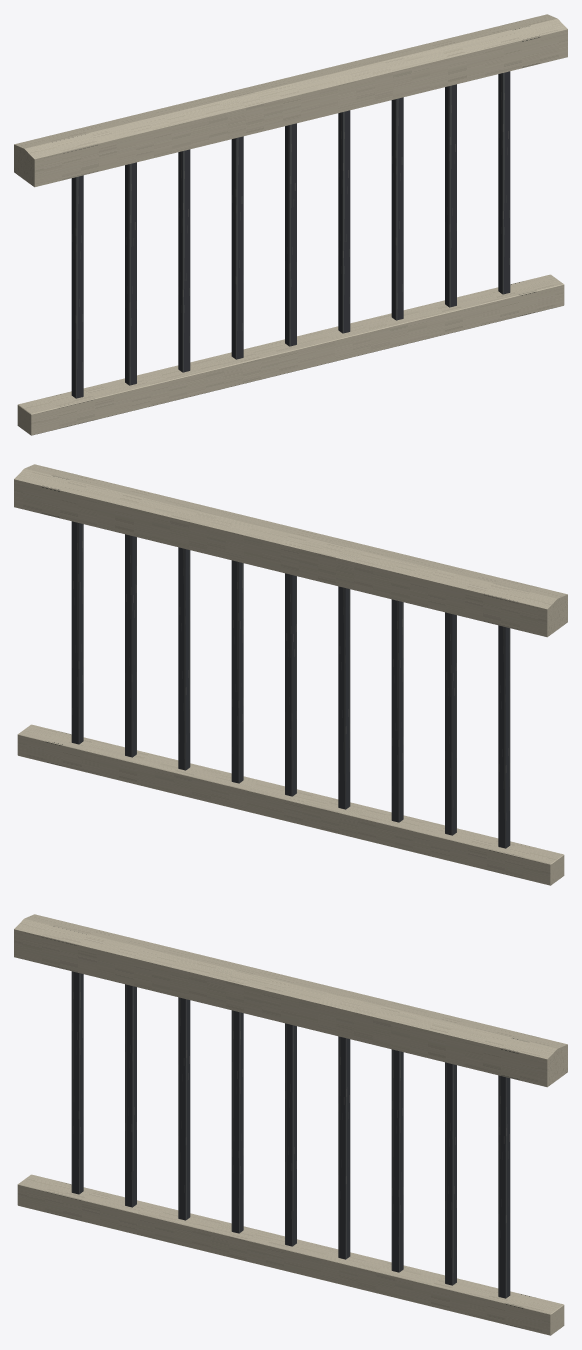
Rendered from porch_railing_straight.glb.
The picture shows the model from 3 angles, top to bottom: view 1: azimuth 30°, elevation 25°; view 2: azimuth 150°, elevation 25°; view 3: azimuth 330°, elevation 25°; orthographic projection.
Visible parts, largest first — view 1: porch_railing_straight; view 2: porch_railing_straight; view 3: porch_railing_straight.
Boxes of the visible parts, box(x1,y1,x2,y2) form: porch_railing_straight: box(14, 14, 567, 435); porch_railing_straight: box(14, 464, 567, 885); porch_railing_straight: box(14, 914, 567, 1335).
Size of the model in its own units: 1.8 by 0.91 by 0.12.
2 materials, 2 textured.
